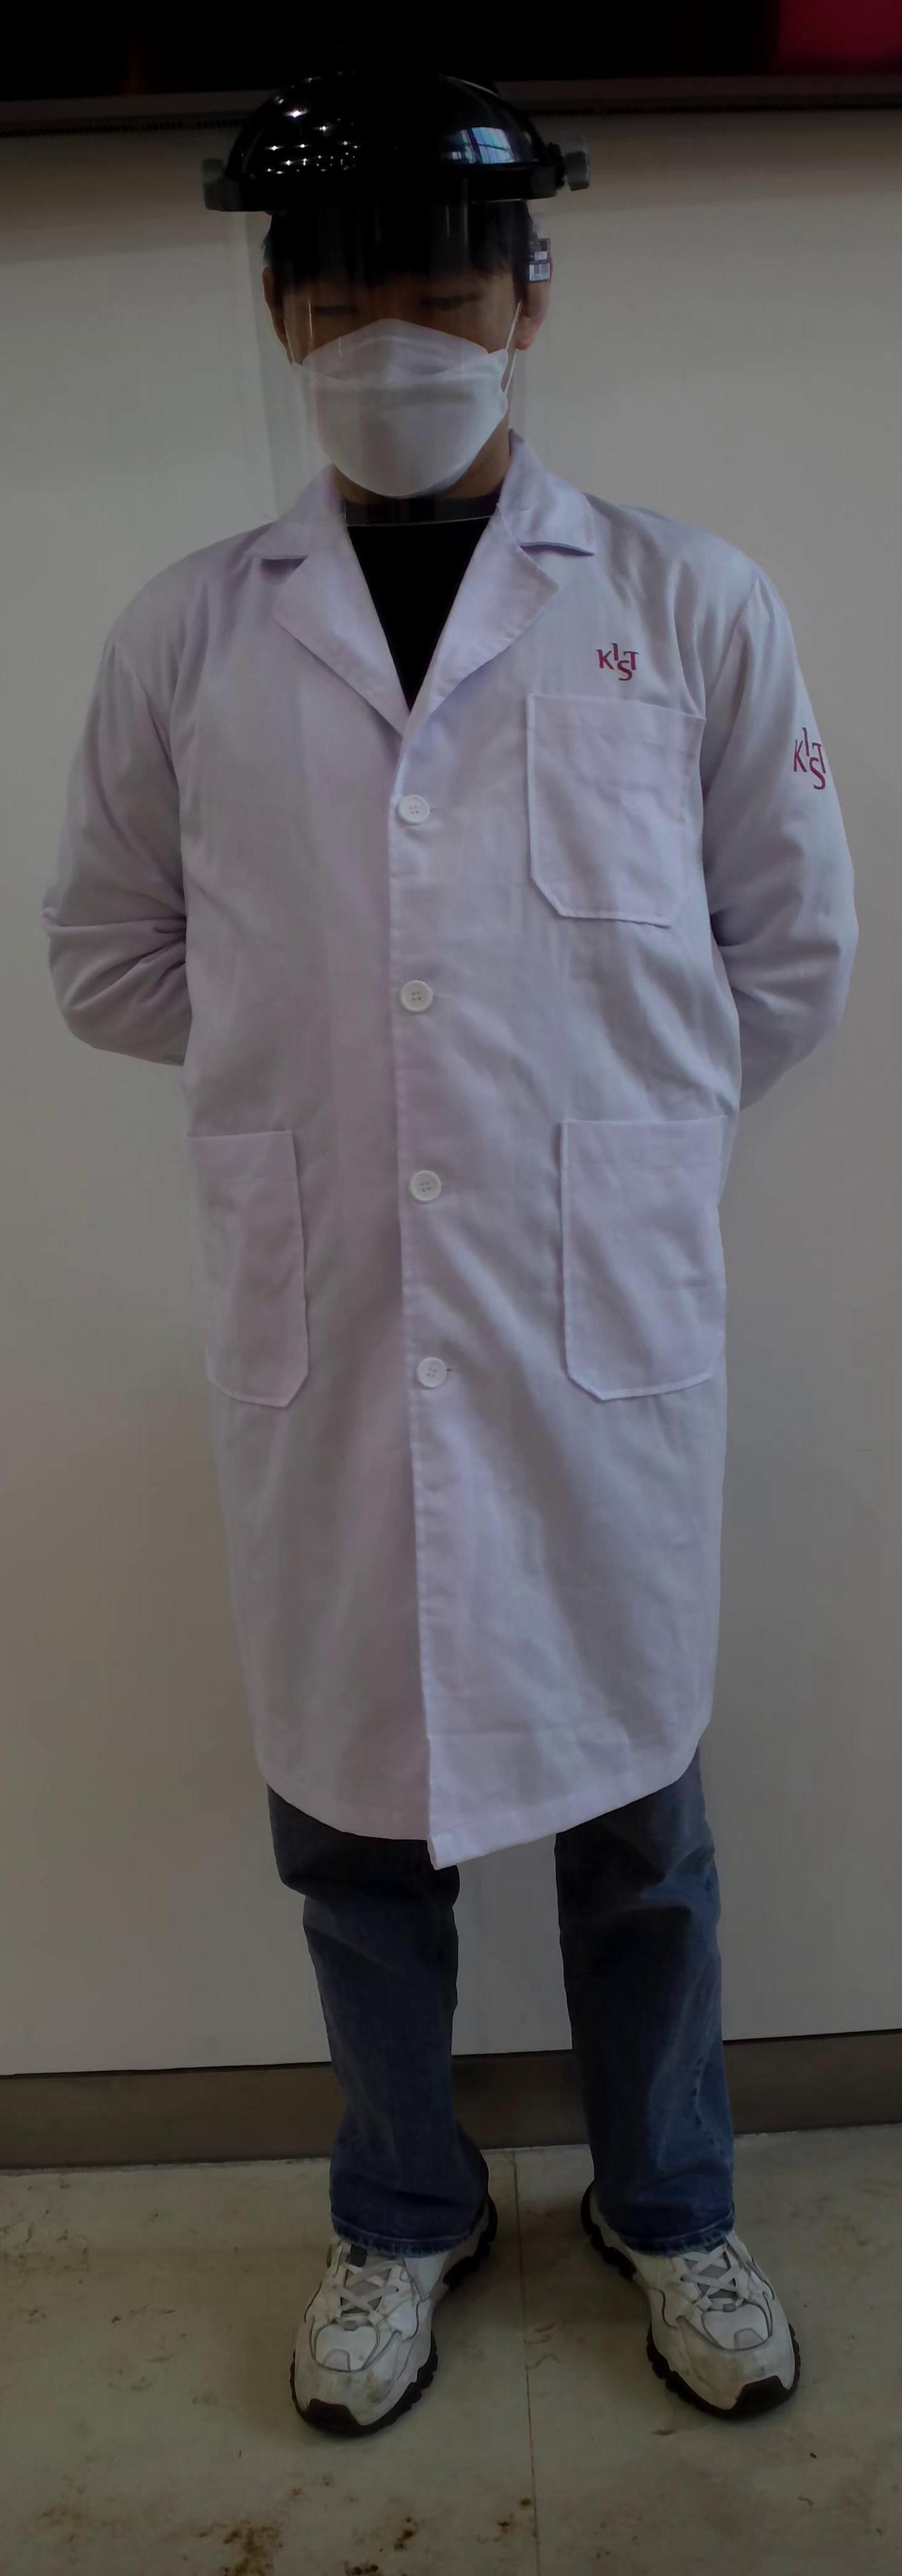lab_coat: (143, 499, 743, 1776)
